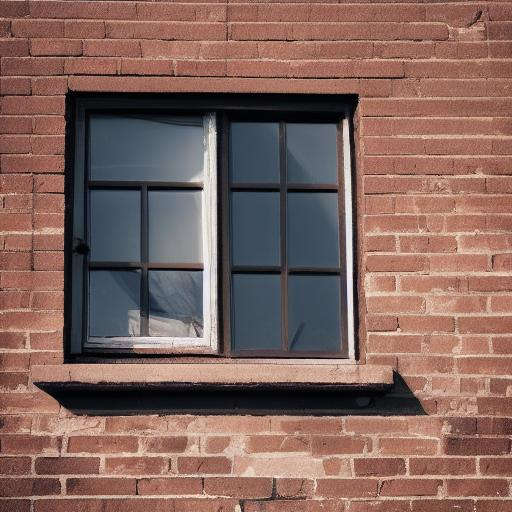Window: (32, 61, 398, 393)
